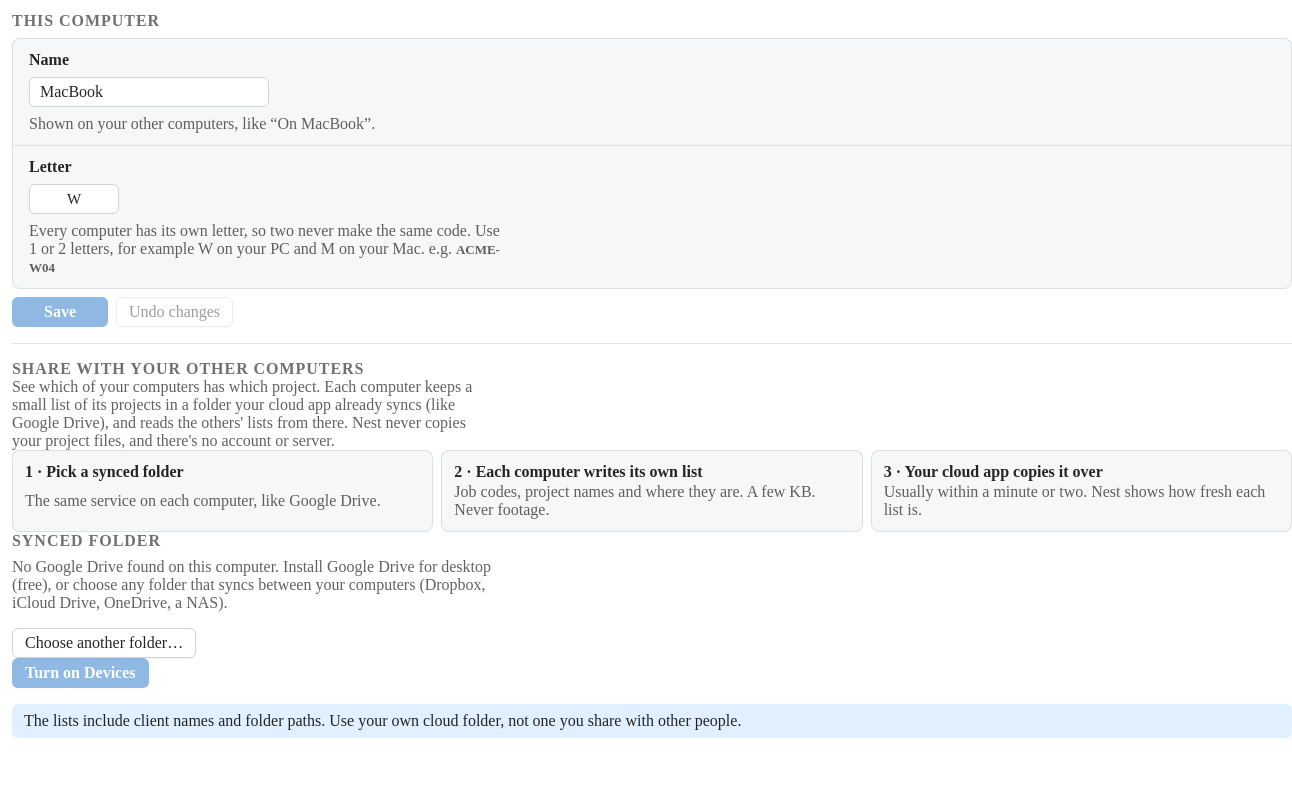
Settings → Computers: this computer › says the numbers carry on when the letter changes
Replace the text in the field labelled "Letter" with "WL" at (74, 199), box [29, 184, 119, 214]
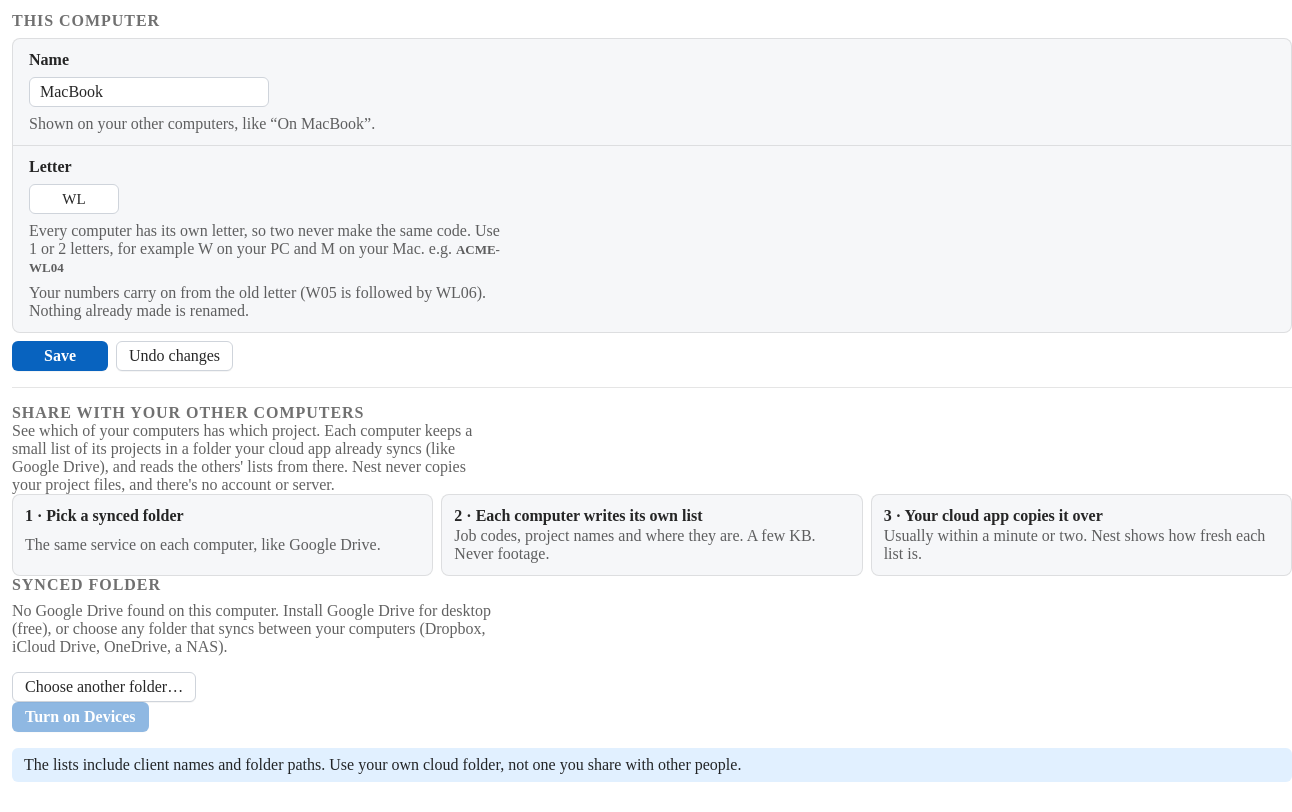
Expected: the text "W05 is followed by WL06" is shown, [29, 284, 509, 320]
